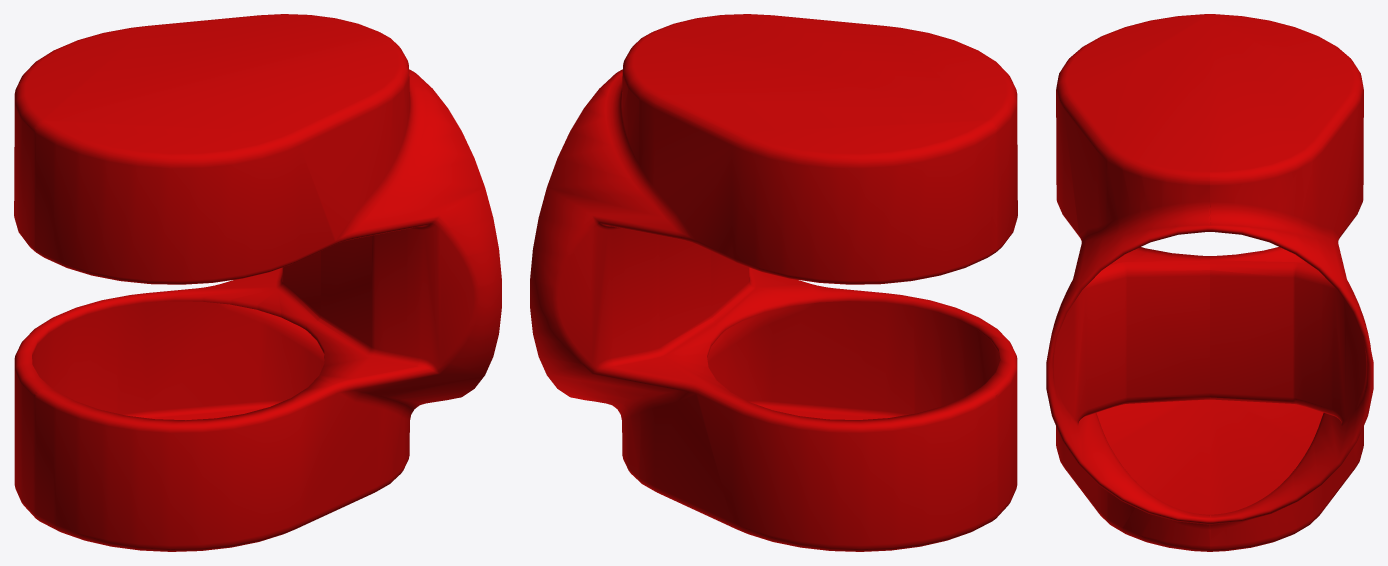
3 renders of one model, left to right at view 1: azimuth 30°, elevation 25°; view 2: azimuth 150°, elevation 25°; view 3: azimuth 270°, elevation 25°, orthographic. The views are drawn at different scales.
Parts seen in each view (by area): view 1: S1; view 2: S1; view 3: S1.
Part boxes in pixels (<box>): S1: <box>14,14,501,551</box>; S1: <box>530,14,1017,551</box>; S1: <box>1046,14,1373,551</box>.
Size of the model in its own units: 0.1938 by 0.195 by 0.1524.
